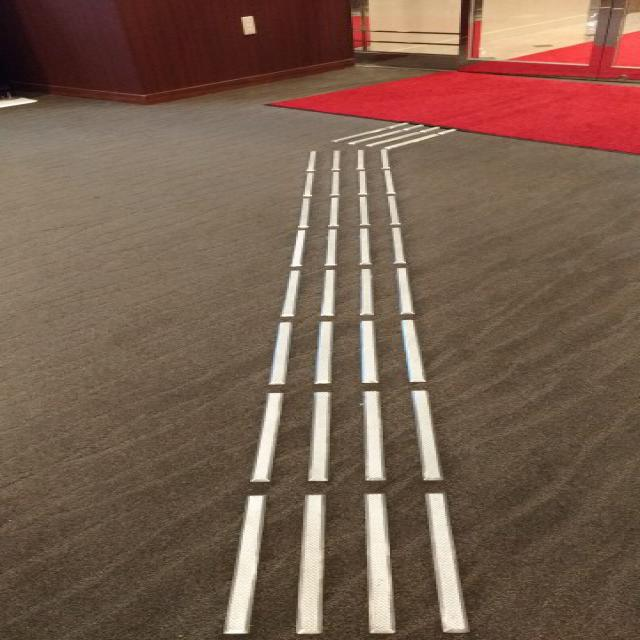tactile-guide-path: (214, 150, 473, 639), (323, 118, 457, 150)
